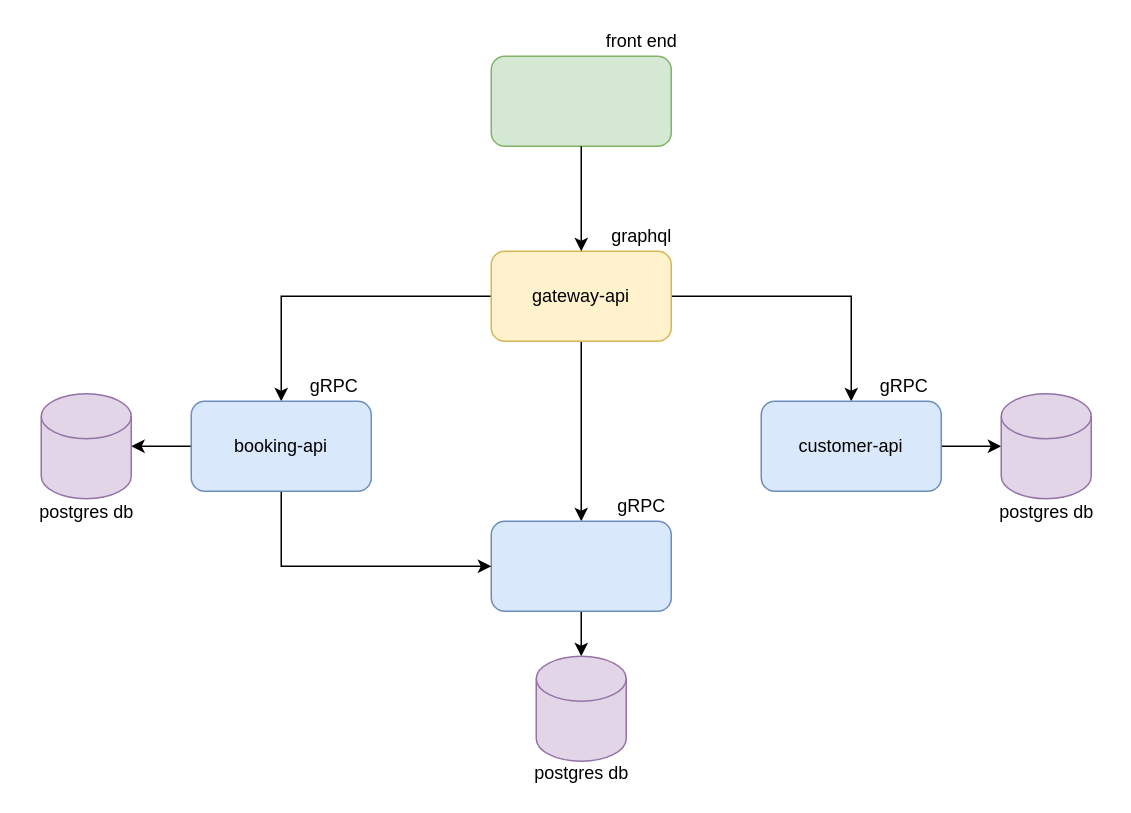
The diagram is 1131 pixels wide and 813 high, and some of its shapes have lost their labels. Here are the shapes that lost their labels. From the top down, the centre of each, then its label:
At (580,100): "booking-ui".
At (580,565): "venue-api".
